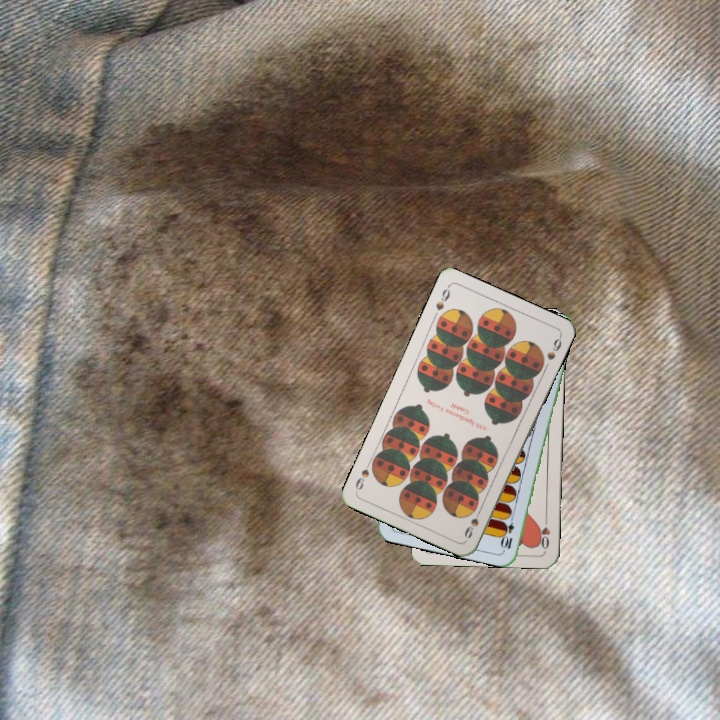E10: (499, 511, 517, 551)
HO: (535, 512, 553, 552)
S9: (460, 503, 484, 541), (431, 282, 453, 313)
